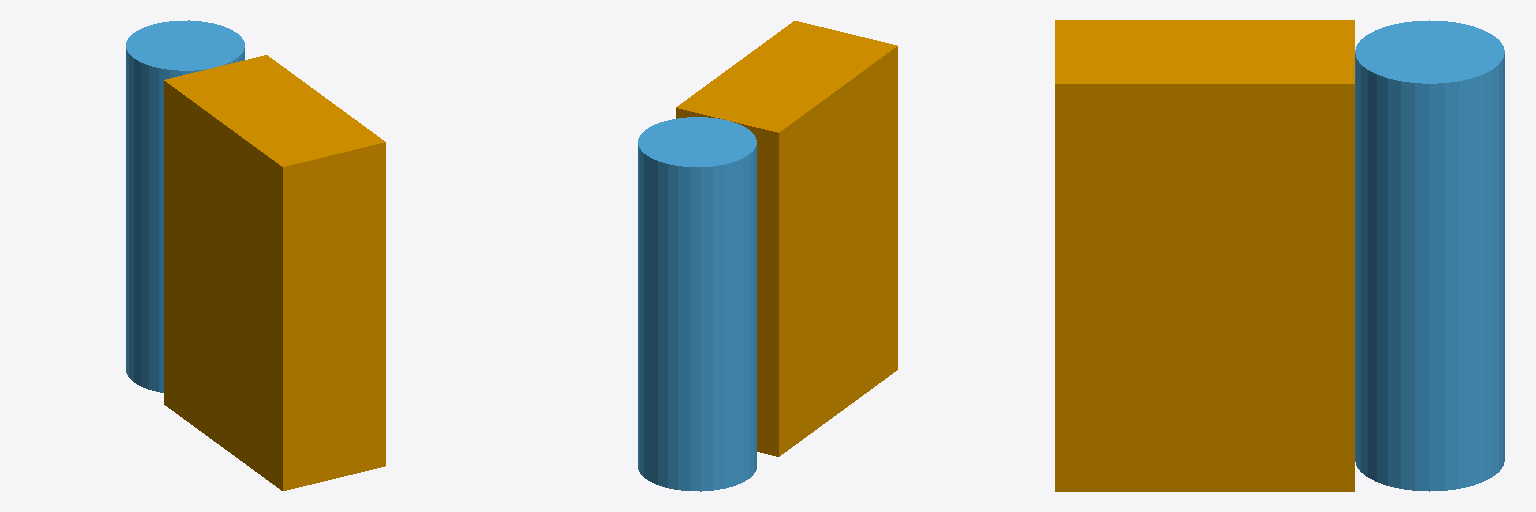
The robot description file, URDF, robot "origins":
<?xml version="1.0"?>
<robot name="origins">
  <link name="base_link">
    <visual>
      <geometry>
        <box size="0.2 0.4 0.6"/>
      </geometry>
    </visual>
  </link>

  <link name="right_leg">
    <visual>
      <geometry>
        <cylinder length="0.6" radius="0.1"/>     
      </geometry>
      <origin rpy="0 0 0" xyz="0 0.5 0"/>
    </visual>
  </link>

  <joint name="base_to_right_leg" type="continuous">
    <parent link="base_link"/>
    <child link="right_leg"/>
    <origin xyz="0 -0.2 0"/>
    <axis xyz="0 1 0"/>
  </joint>

</robot>

--- Render facts (derived) ---
The picture shows the robot from 3 angles, left to right: view 1: azimuth 30°, elevation 25°; view 2: azimuth 150°, elevation 25°; view 3: azimuth 270°, elevation 25°; orthographic projection.
Robot: origins — 2 links, 1 joints (1 continuous); root link base_link; default pose: every joint at zero.
Visible links, largest first — view 1: base_link, right_leg; view 2: base_link, right_leg; view 3: base_link, right_leg.
Boxes of the visible links, left/top/right/bottom form: base_link: left=164, top=55, right=385, bottom=490; right_leg: left=126, top=20, right=244, bottom=392; base_link: left=676, top=21, right=897, bottom=456; right_leg: left=638, top=117, right=756, bottom=491; base_link: left=1055, top=20, right=1354, bottom=491; right_leg: left=1355, top=20, right=1504, bottom=491.
Size in the robot's own frame: 0.2 by 0.6 by 0.6 metres.
Geometry: primitives only (box / cylinder / sphere), no mesh files.